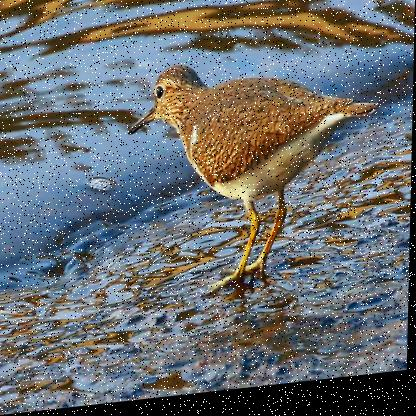Burung: (124, 53, 379, 308)
